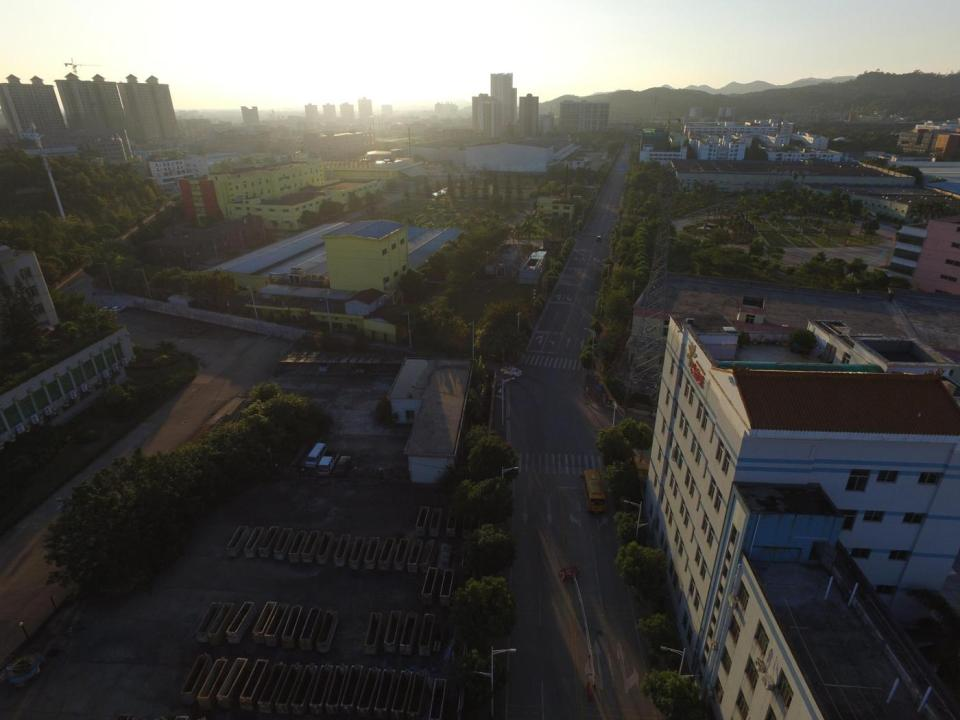bus: (580, 468, 608, 516)
car: (334, 456, 351, 478), (500, 365, 522, 378), (109, 305, 127, 314), (356, 357, 366, 373), (98, 304, 112, 315), (319, 359, 329, 372), (596, 236, 601, 241)
truck: (319, 449, 339, 477)
van: (305, 442, 327, 468)
